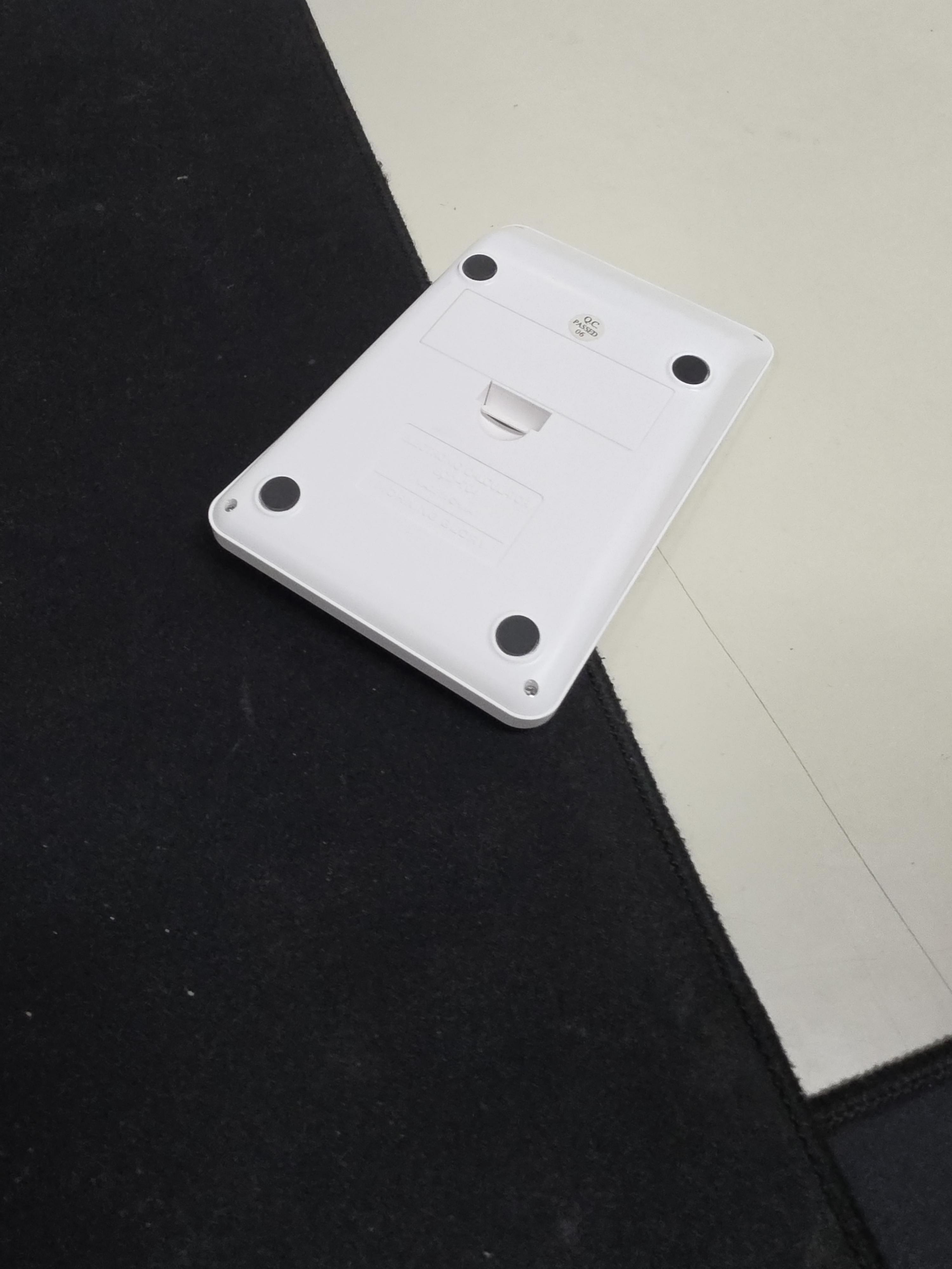calculator: (208, 224, 775, 728)
